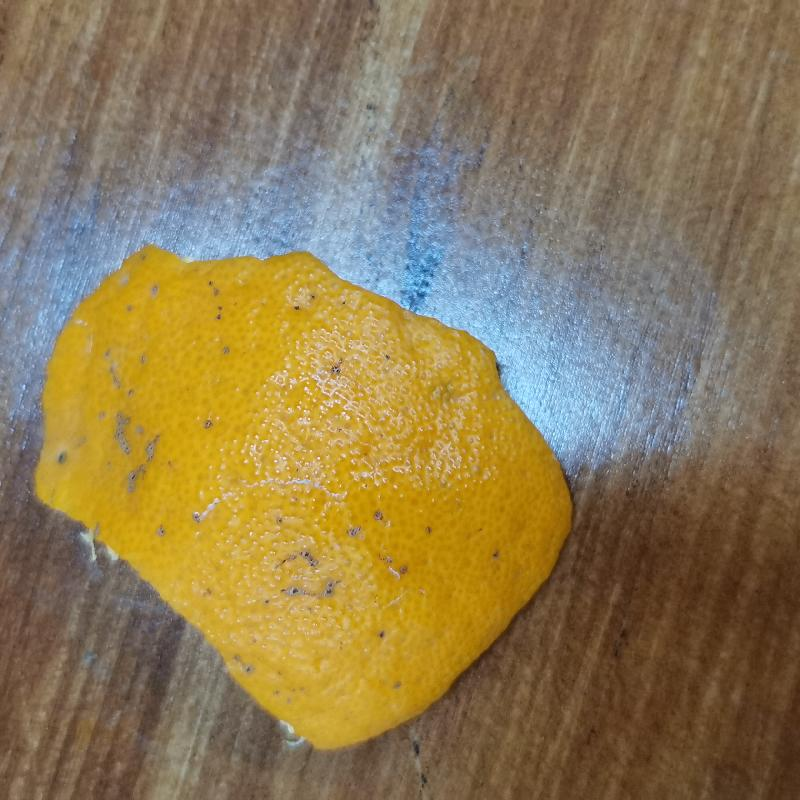orange: (32, 243, 577, 752)
